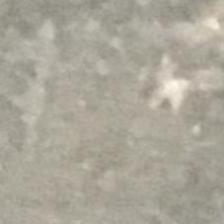Non_Crack: (18, 13, 220, 172)
